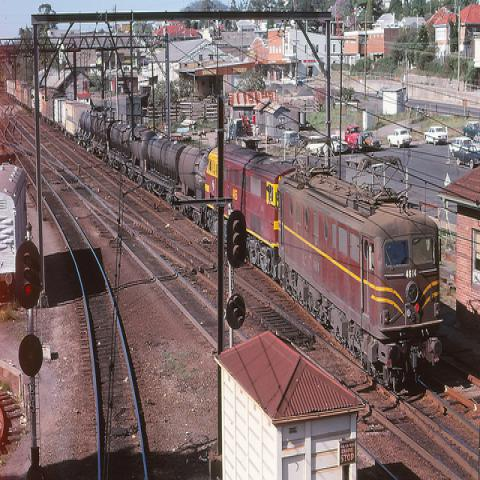car: (454, 146, 479, 169), (449, 137, 476, 157), (387, 128, 412, 148), (424, 125, 446, 147), (278, 130, 299, 150), (305, 134, 325, 154), (330, 135, 348, 156), (363, 132, 382, 150), (461, 122, 480, 136), (176, 123, 192, 132)
truck: (231, 115, 263, 152), (453, 144, 479, 171), (341, 126, 364, 154)
